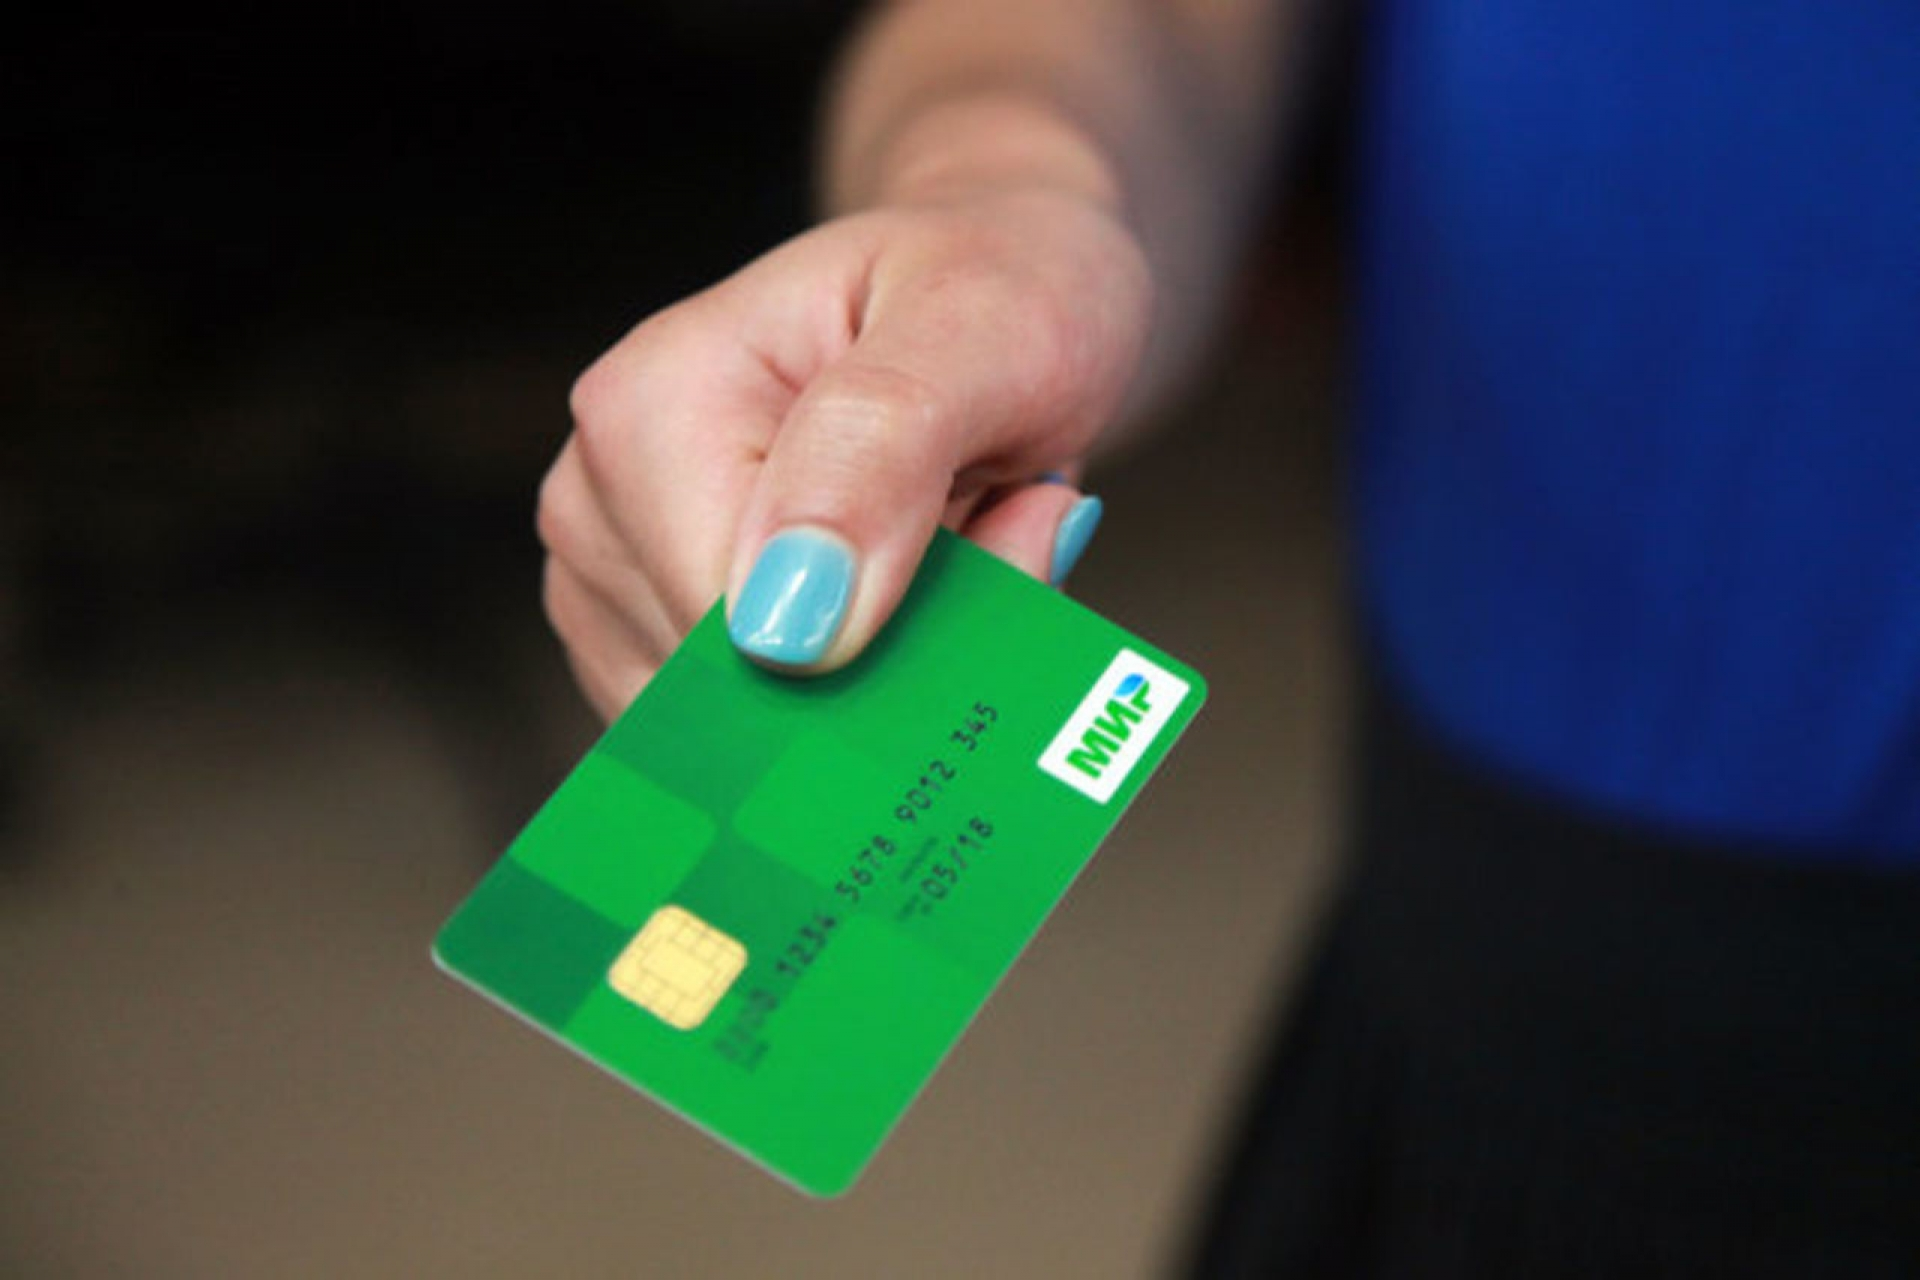card: (429, 543, 1211, 1200)
